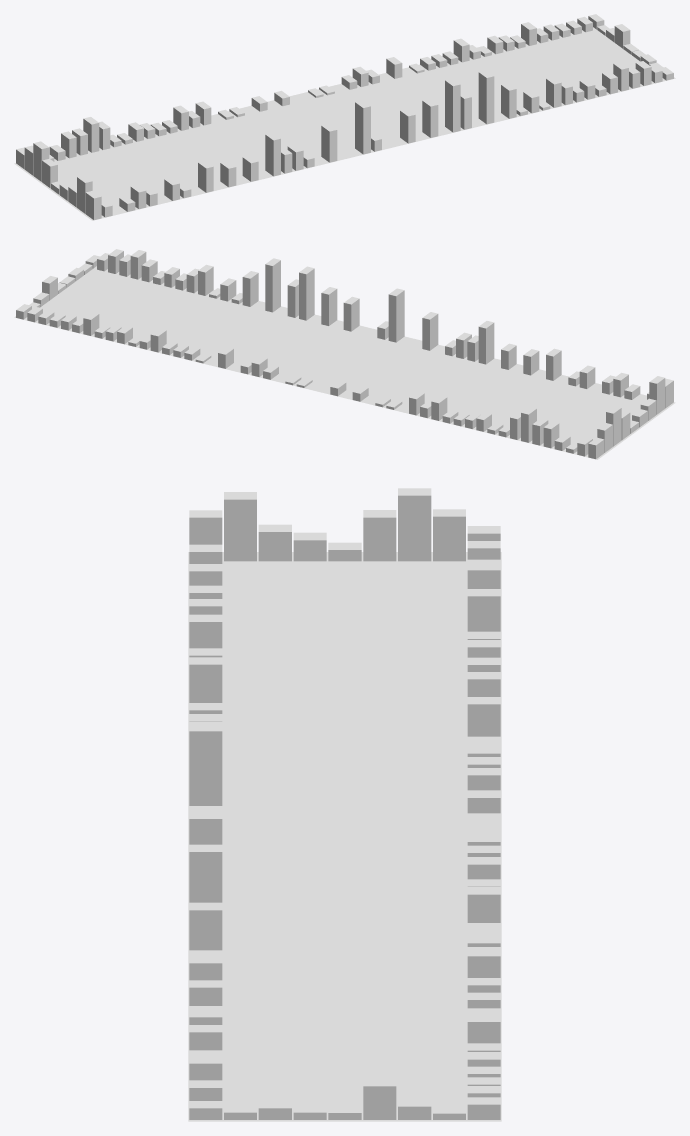
Rendered from central.glb.
The picture shows the model from 3 angles, top to bottom: view 1: azimuth 30°, elevation 25°; view 2: azimuth 150°, elevation 25°; view 3: azimuth 270°, elevation 25°; orthographic projection. The views are drawn at different scales.
Parts seen in each view (by area): view 1: Plane; view 2: Plane; view 3: Plane.
Part boxes in pixels (left/top/right/bottom): Plane: left=14, top=14, right=675, bottom=220; Plane: left=14, top=249, right=675, bottom=459; Plane: left=188, top=488, right=501, bottom=1121.
Size of the model in its own units: 4204 by 319 by 977.
1 material, 1 textured.
